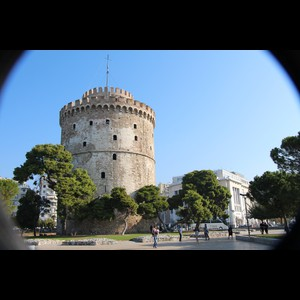White Tower: (53, 58, 161, 235)
